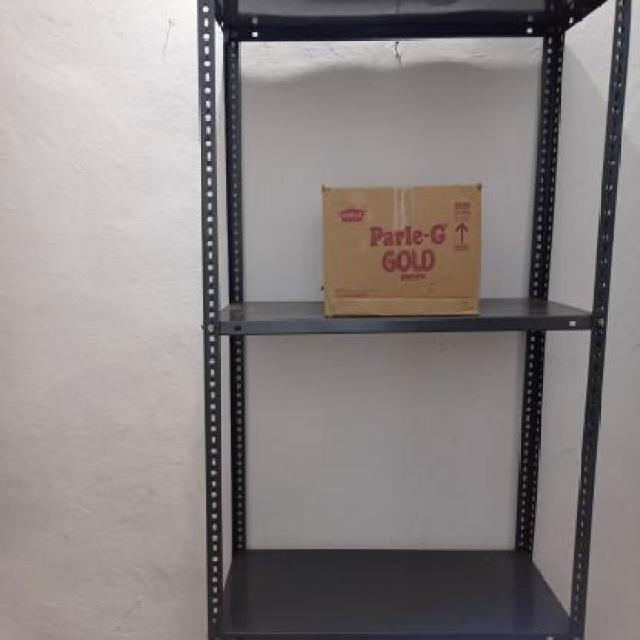box: (322, 185, 480, 318)
